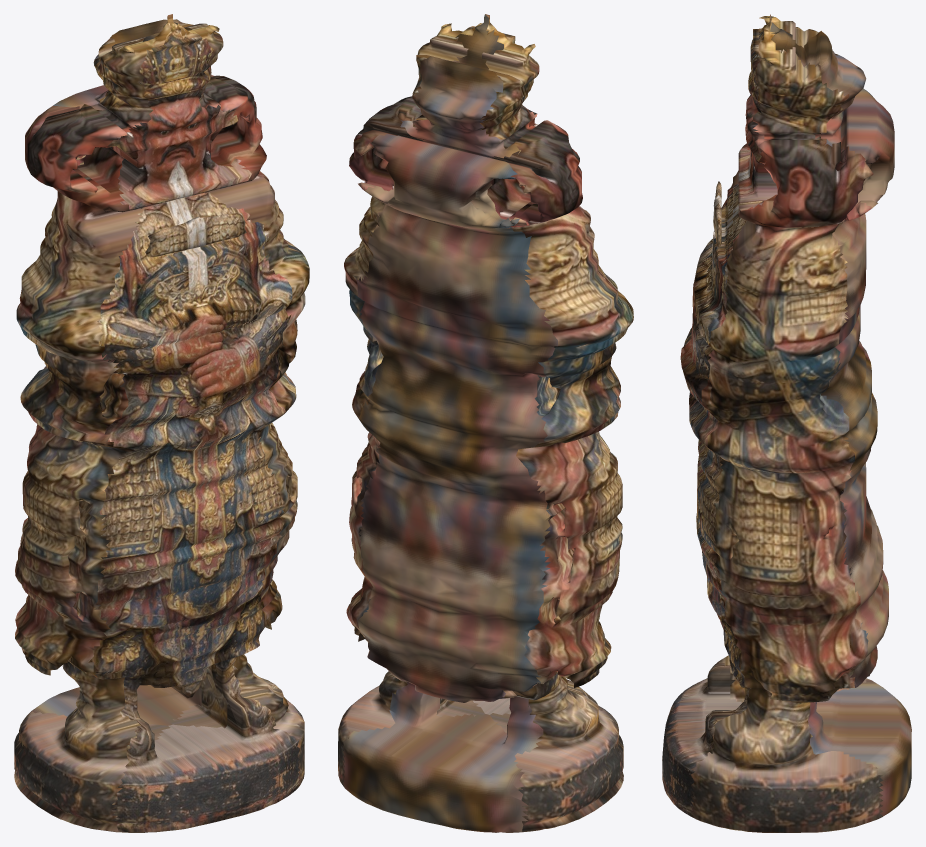
File: south-king.glb
3 renders of one model, left to right at view 1: azimuth 30°, elevation 25°; view 2: azimuth 150°, elevation 25°; view 3: azimuth 270°, elevation 25°, orthographic.
Parts seen in each view (by area): view 1: south-king; view 2: south-king; view 3: south-king.
Boxes of the visible parts, left/top/right/bottom form: south-king: left=14, top=14, right=309, bottom=832; south-king: left=338, top=14, right=633, bottom=832; south-king: left=662, top=14, right=911, bottom=832.
Size of the model in its own units: 0.3715 by 1 by 0.2972.
Materials: 1 (1 with a texture image).
